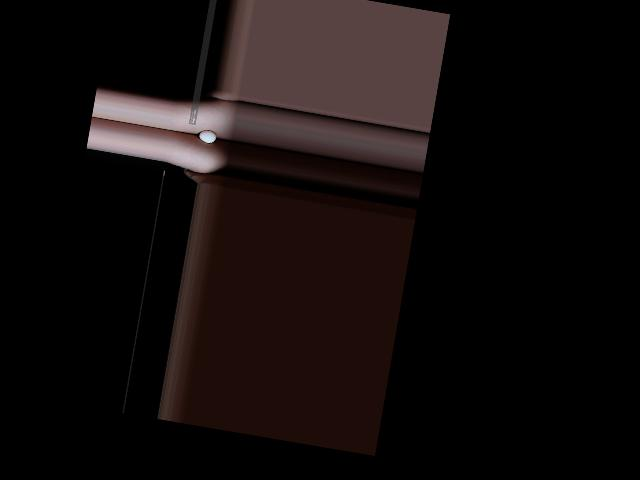egg: (197, 128, 216, 143)
